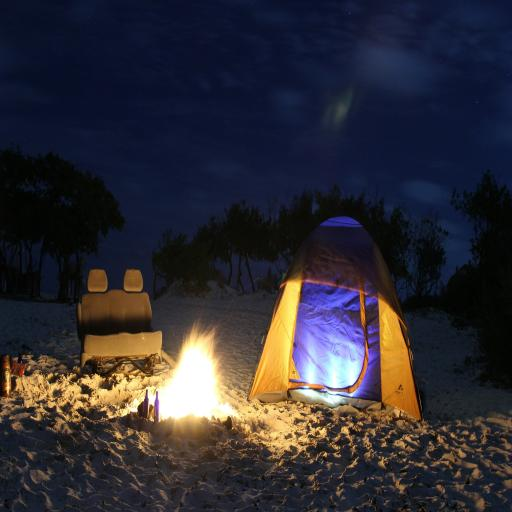campfire: (131, 310, 243, 470)
